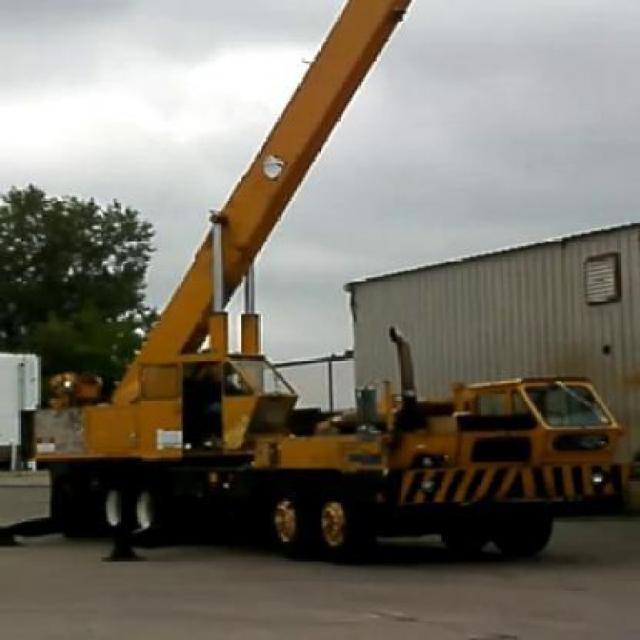Mobile Crane: (32, 0, 618, 557)
